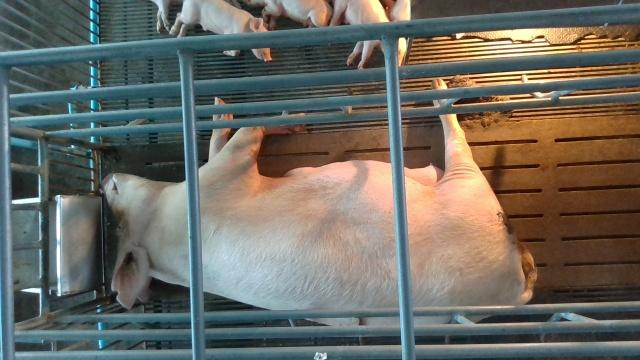piglet: (170, 0, 270, 62), (330, 0, 406, 69), (243, 0, 331, 26)
sow-sleep: (102, 77, 540, 326)
